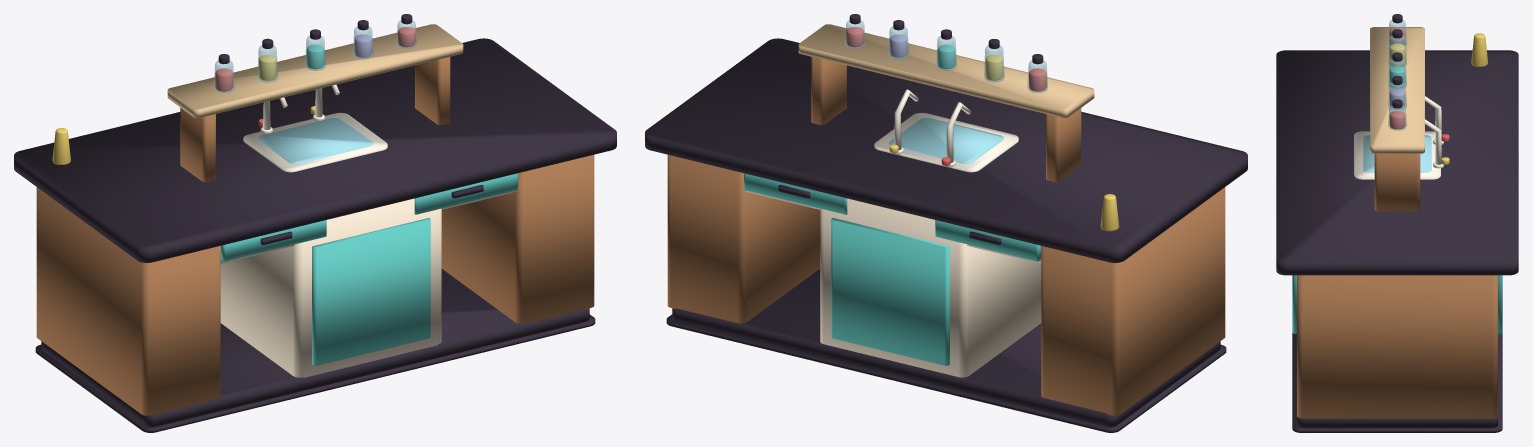
The model's file is lab-workbench.glb.
The picture shows the model from 3 angles, left to right: view 1: azimuth 30°, elevation 25°; view 2: azimuth 150°, elevation 25°; view 3: azimuth 270°, elevation 25°; orthographic projection. The views are drawn at different scales.
Visible parts, largest first — view 1: LabWorkbench_SlateTopAndFaucets, LabWorkbench_WoodPanels, LabWorkbench_TurquoiseDrawers, LabWorkbench_CreamCabinet, LabWorkbench_WoodLightShelf, LabWorkbench_SkyBlueWater, LabWorkbench_GlassBottles, LabWorkbench_CreamSink, LabWorkbench_ButterSafety, LabWorkbench_CoralReagents; view 2: LabWorkbench_SlateTopAndFaucets, LabWorkbench_WoodPanels, LabWorkbench_TurquoiseDrawers, LabWorkbench_CreamCabinet, LabWorkbench_WoodLightShelf, LabWorkbench_GlassBottles, LabWorkbench_CreamSink, LabWorkbench_SkyBlueWater, LabWorkbench_ButterSafety, LabWorkbench_CoralReagents; view 3: LabWorkbench_SlateTopAndFaucets, LabWorkbench_WoodPanels, LabWorkbench_WoodLightShelf, LabWorkbench_GlassBottles, LabWorkbench_CreamSink, LabWorkbench_TurquoiseDrawers, LabWorkbench_ButterSafety, LabWorkbench_SkyBlueWater, LabWorkbench_CoralReagents, LabWorkbench_LavenderReagent.
Part boxes in pixels (left/top/right/bottom): LabWorkbench_SlateTopAndFaucets: left=14, top=14, right=616, bottom=432; LabWorkbench_WoodPanels: left=36, top=57, right=594, bottom=415; LabWorkbench_TurquoiseDrawers: left=221, top=44, right=517, bottom=365; LabWorkbench_CreamCabinet: left=220, top=190, right=515, bottom=377; LabWorkbench_WoodLightShelf: left=167, top=24, right=463, bottom=117; LabWorkbench_SkyBlueWater: left=258, top=118, right=372, bottom=163; LabWorkbench_GlassBottles: left=214, top=20, right=416, bottom=92; LabWorkbench_CreamSink: left=243, top=84, right=387, bottom=172; LabWorkbench_ButterSafety: left=52, top=55, right=315, bottom=164; LabWorkbench_CoralReagents: left=215, top=27, right=415, bottom=127; LabWorkbench_SlateTopAndFaucets: left=645, top=14, right=1247, bottom=432; LabWorkbench_WoodPanels: left=667, top=57, right=1225, bottom=415; LabWorkbench_TurquoiseDrawers: left=744, top=44, right=1040, bottom=365; LabWorkbench_CreamCabinet: left=746, top=190, right=1041, bottom=377; LabWorkbench_WoodLightShelf: left=798, top=24, right=1094, bottom=117; LabWorkbench_GlassBottles: left=845, top=20, right=1047, bottom=92; LabWorkbench_CreamSink: left=874, top=89, right=1018, bottom=172; LabWorkbench_SkyBlueWater: left=889, top=118, right=1003, bottom=163; LabWorkbench_ButterSafety: left=889, top=55, right=1119, bottom=231; LabWorkbench_CoralReagents: left=846, top=27, right=1046, bottom=165; LabWorkbench_SlateTopAndFaucets: left=1276, top=14, right=1518, bottom=432; LabWorkbench_WoodPanels: left=1297, top=153, right=1497, bottom=418; LabWorkbench_WoodLightShelf: left=1370, top=27, right=1424, bottom=153; LabWorkbench_GlassBottles: left=1388, top=20, right=1406, bottom=130; LabWorkbench_CreamSink: left=1354, top=96, right=1443, bottom=179; LabWorkbench_TurquoiseDrawers: left=1292, top=66, right=1502, bottom=333; LabWorkbench_ButterSafety: left=1389, top=33, right=1488, bottom=164; LabWorkbench_SkyBlueWater: left=1363, top=135, right=1431, bottom=172; LabWorkbench_CoralReagents: left=1389, top=27, right=1449, bottom=141; LabWorkbench_LavenderReagent: left=1389, top=89, right=1405, bottom=109.
Size of the model in its own units: 2.2 by 1.35 by 1.06.
